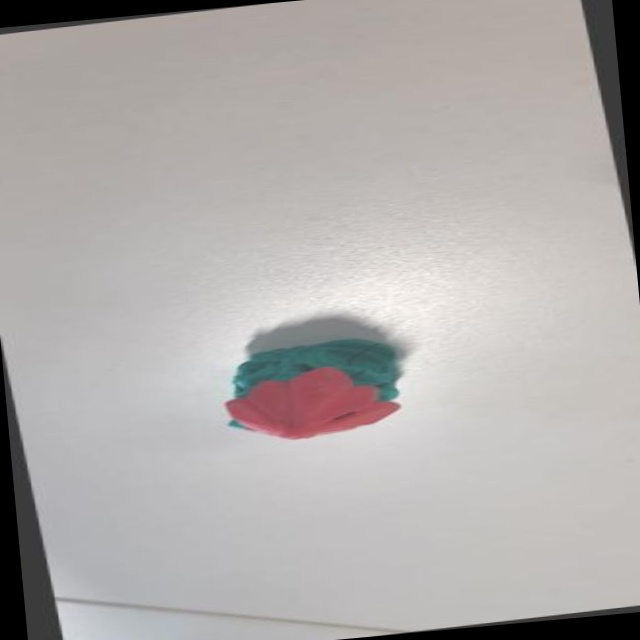House: (208, 324, 432, 455)
